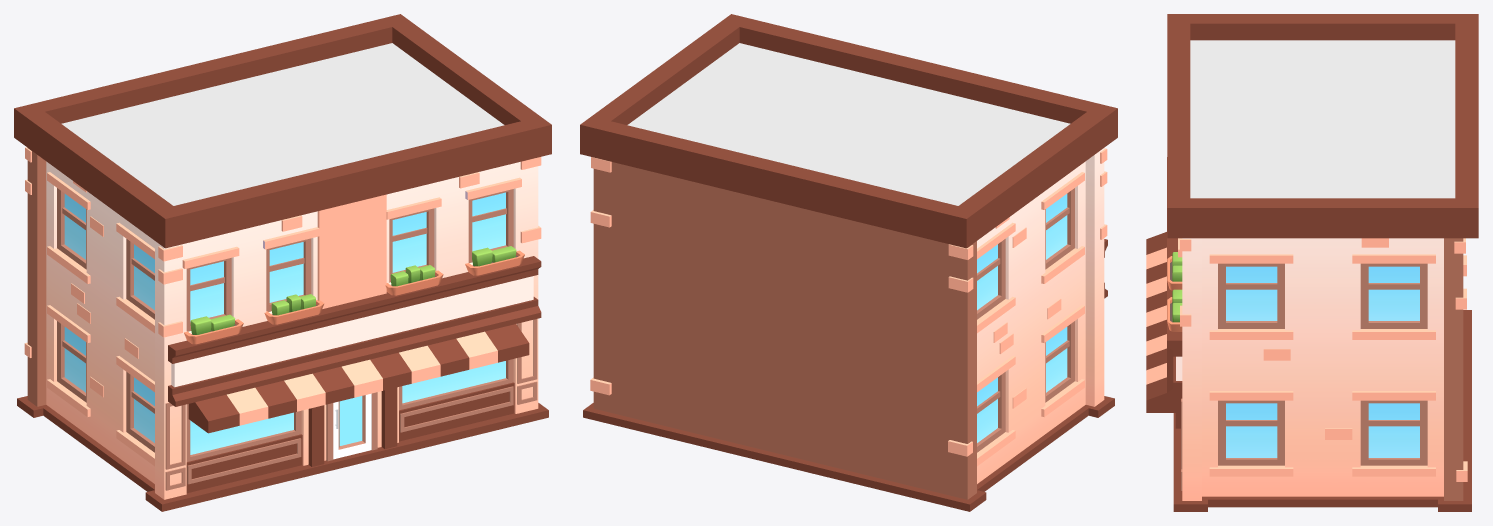
Rendered from city2-building-living-21.glb.
3 renders of one model, left to right at view 1: azimuth 30°, elevation 25°; view 2: azimuth 150°, elevation 25°; view 3: azimuth 270°, elevation 25°, orthographic. The views are drawn at different scales.
Visible parts, largest first — view 1: Building_Living_21; view 2: Building_Living_21; view 3: Building_Living_21.
Boxes of the visible parts, <box> form: Building_Living_21: <box>14,14,551,511</box>; Building_Living_21: <box>580,14,1117,511</box>; Building_Living_21: <box>1146,14,1478,511</box>.
Bounding box in the file's own units: 10.86 × 7.92 × 7.85.
1 material, 1 textured.
